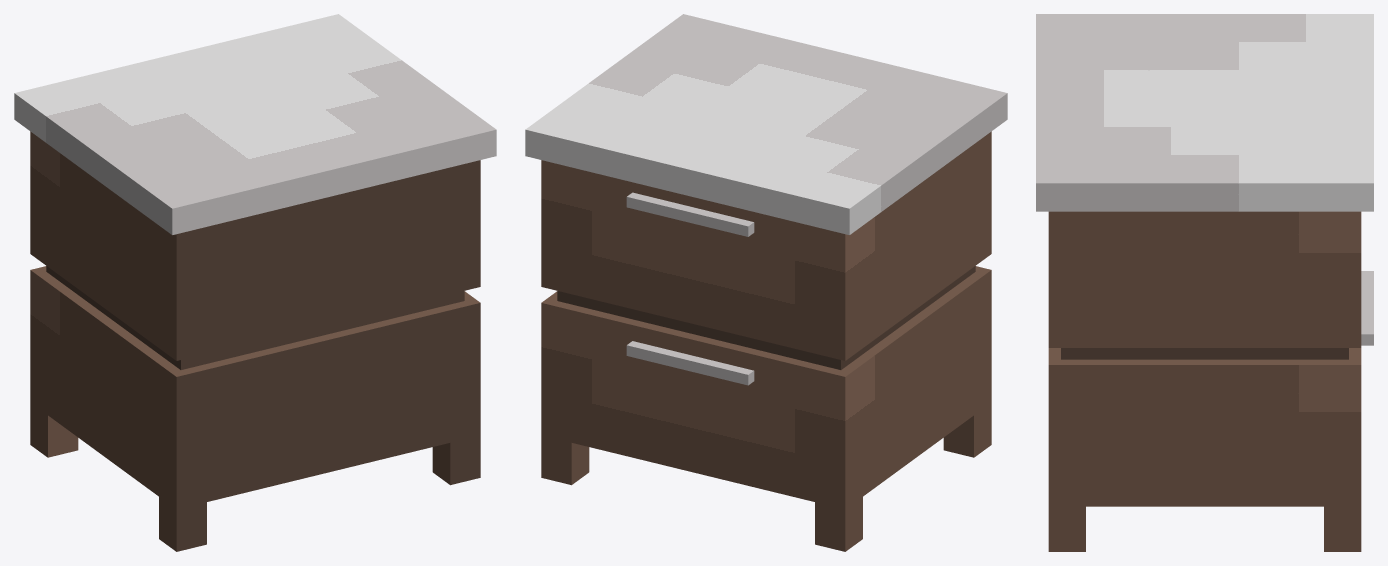
File: bedside table.fbx
3 renders of one model, left to right at view 1: azimuth 30°, elevation 25°; view 2: azimuth 150°, elevation 25°; view 3: azimuth 270°, elevation 25°, orthographic. The views are drawn at different scales.
Parts seen in each view (by area): view 1: cube_2, cube_1, cube, cube_3, cube_6, cube_7, cube_5; view 2: cube_1, cube_2, cube, cube_3, cube_8, cube_9, cube_5, cube_4, cube_6; view 3: cube_1, cube_2, cube, cube_3, cube_4, cube_7, cube_8.
Part boxes in pixels (<box>): cube_2: <box>30,266,480,509</box>; cube_1: <box>14,14,496,234</box>; cube: <box>30,131,480,360</box>; cube_3: <box>46,266,464,369</box>; cube_6: <box>159,497,206,551</box>; cube_7: <box>432,435,480,485</box>; cube_5: <box>30,403,78,457</box>; cube_1: <box>525,14,1007,234</box>; cube_2: <box>541,266,991,509</box>; cube: <box>541,131,991,360</box>; cube_3: <box>557,266,975,369</box>; cube_8: <box>626,341,754,385</box>; cube_9: <box>626,192,754,236</box>; cube_5: <box>815,497,862,551</box>; cube_4: <box>541,435,589,485</box>; cube_6: <box>943,403,991,457</box>; cube_1: <box>1036,14,1373,211</box>; cube_2: <box>1048,348,1361,506</box>; cube: <box>1048,211,1361,347</box>; cube_3: <box>1061,348,1348,359</box>; cube_4: <box>1324,506,1361,551</box>; cube_7: <box>1048,506,1085,551</box>; cube_8: <box>1361,271,1373,345</box>.
Bounding box in the file's own units: 20 × 20.62 × 16.88.
1 material, 1 textured.
